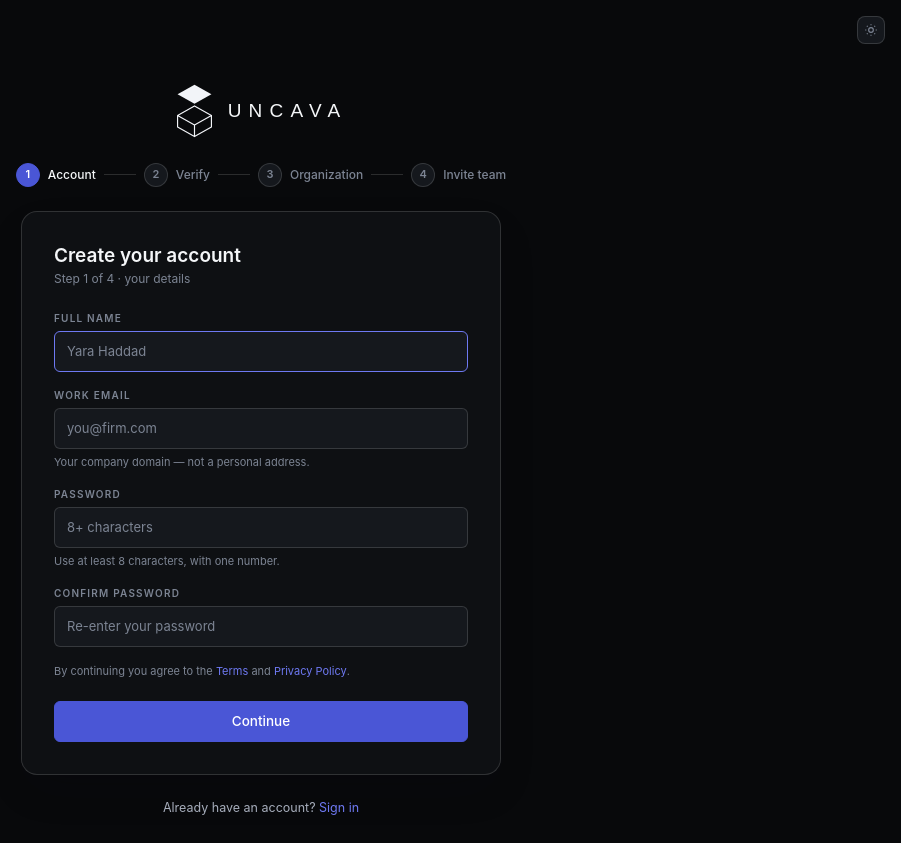
Scenario: SignupPage › blocks mismatched passwords before reaching the server
Type "Alok Kumar" into the field with placeholder "Yara Haddad".
click(261, 352); type("Alok Kumar")  # box [54,332,468,372]
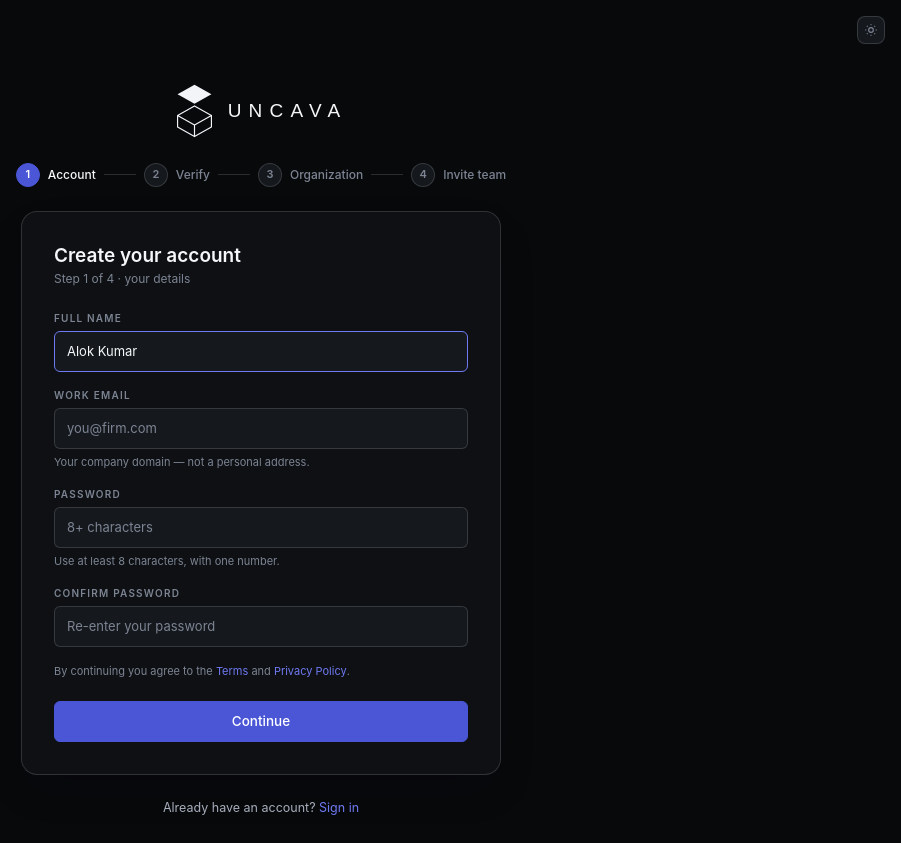
Type "alok@nextwebspark.com" into the field with placeholder "you@firm.com".
click(261, 429); type("alok@nextwebspark.com")  # box [54,408,468,449]
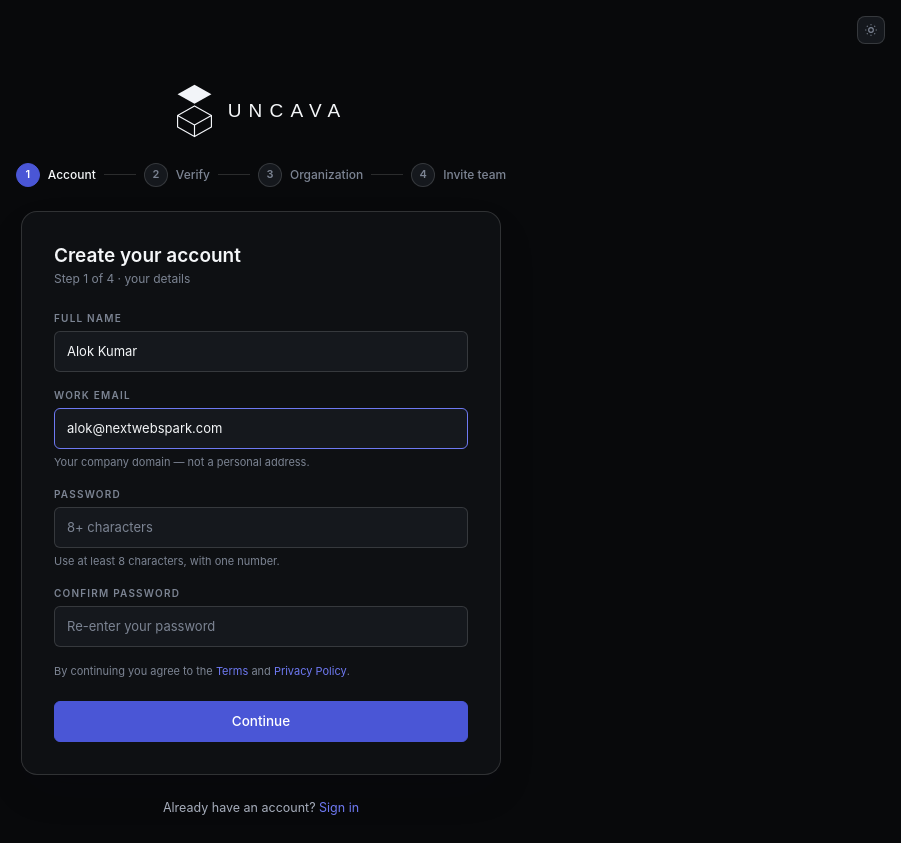
Type "secret123" into the password field with placeholder "8+ characters".
click(261, 528); type("secret123")  # box [54,507,468,548]
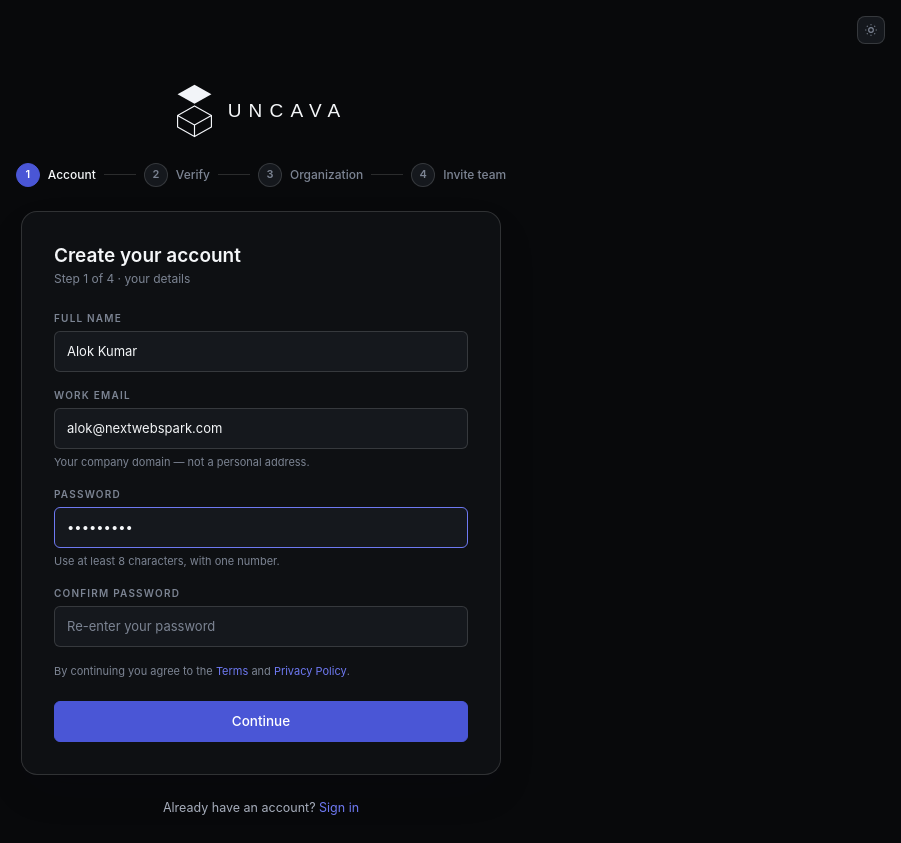
Type "different1" into the password field with placeholder "Re-enter your password".
click(261, 626); type("different1")  # box [54,606,468,647]
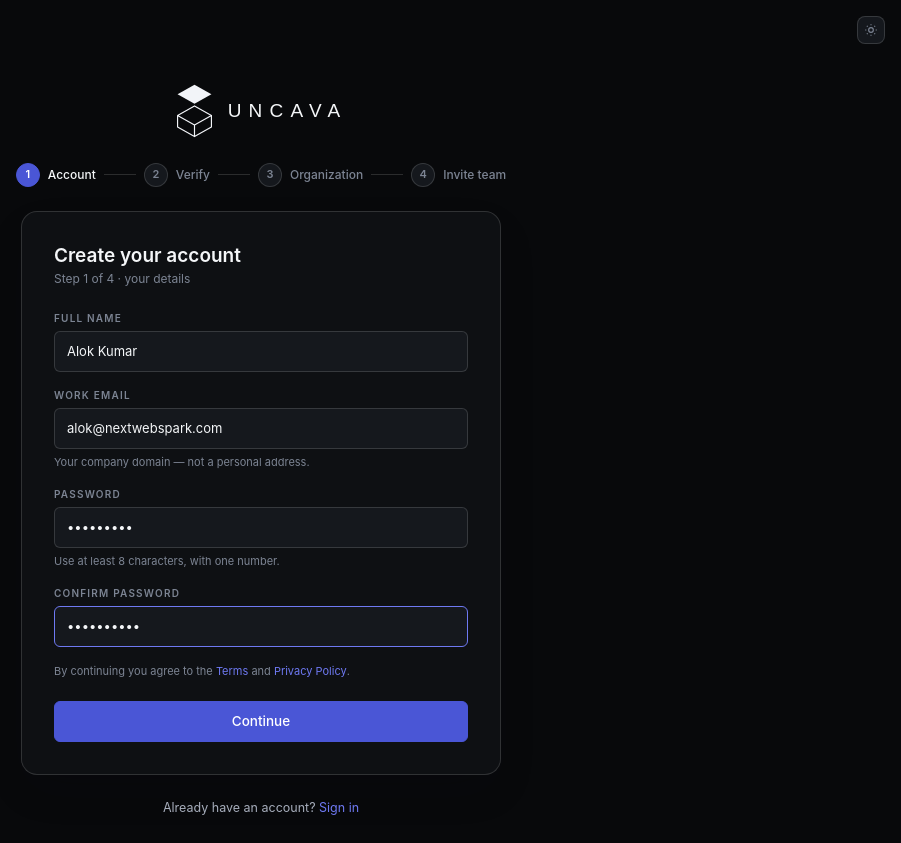
Click the button "Continue".
click(261, 721)  # box [54,701,468,742]
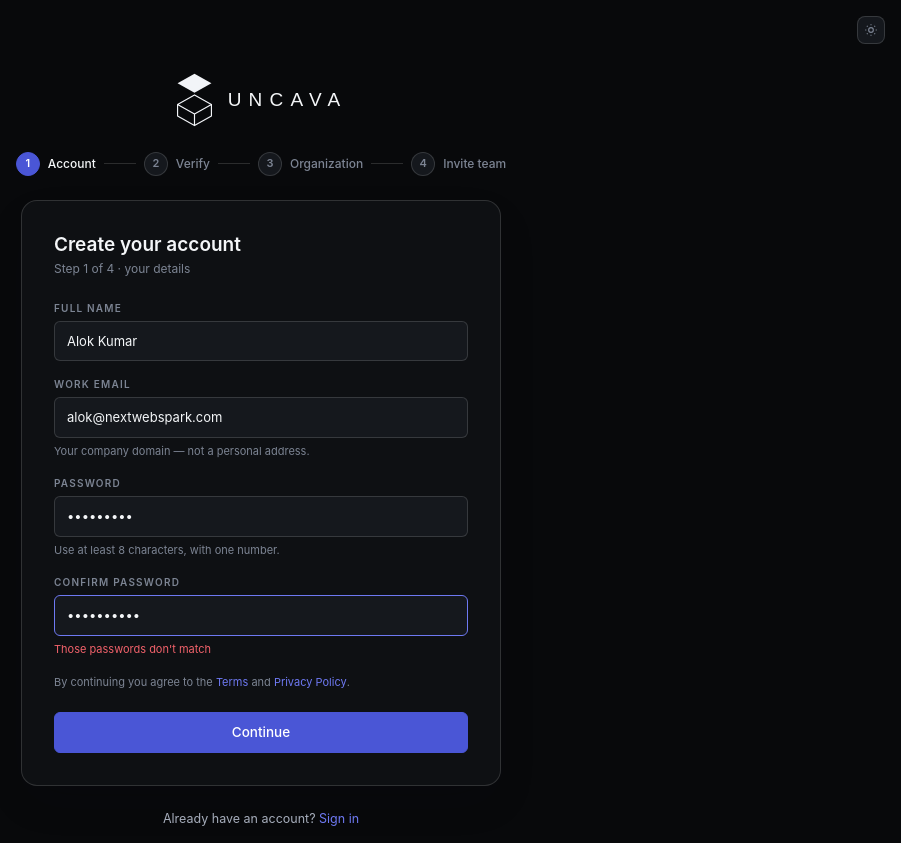
Check: the text "Those passwords don't match" is shown, box [54,642,211,656]
